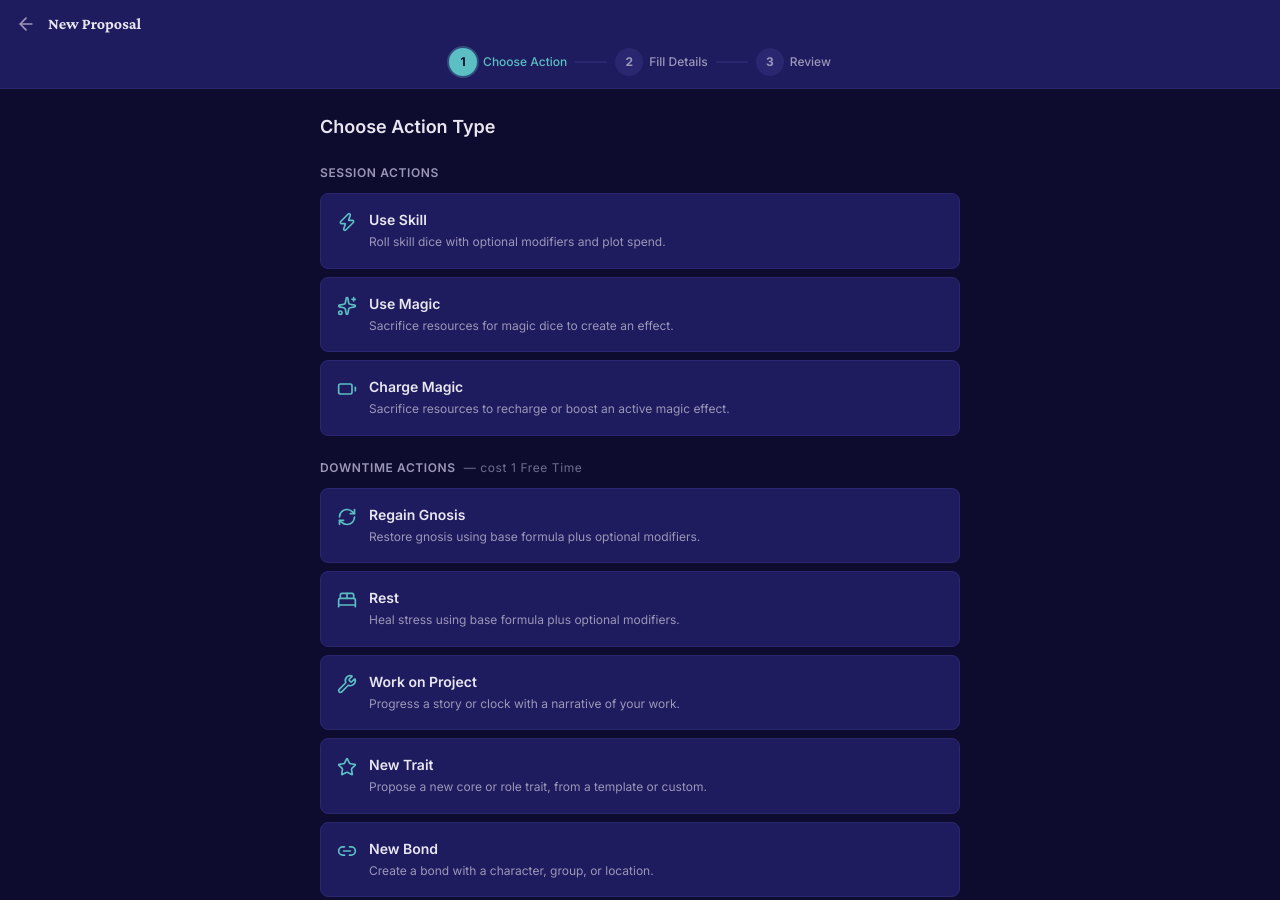
Test: proposal wizard — full use_skill flow › advances to Step 3 (Review) after filling use_skill form and clicking Next
This screenshot has width=1280, height=900.
Click the button with aria-label "Select Use Skill": click(398, 220) [320,193,960,268]
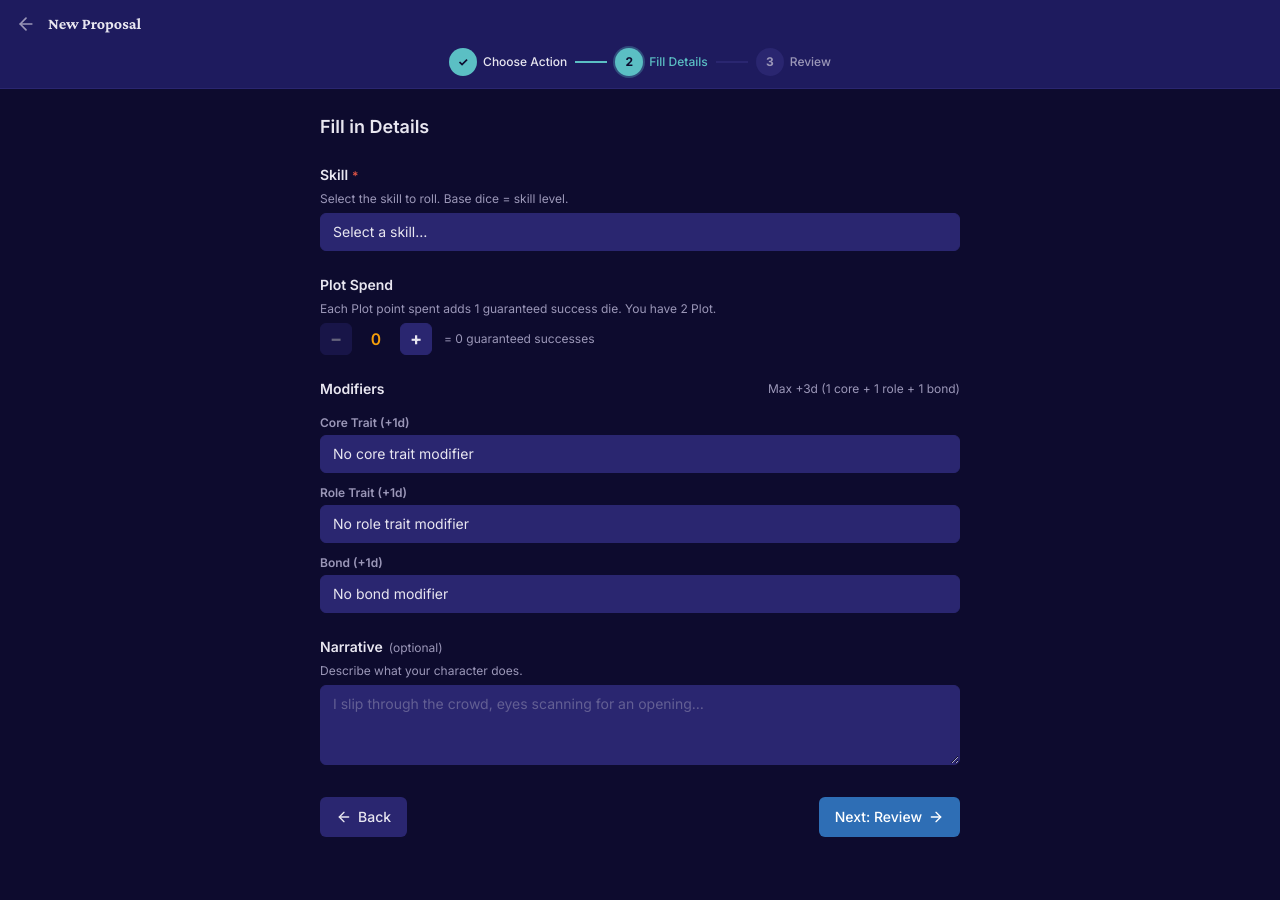
Result: the dropdown labelled "Skill*" is shown
Select "Finesse (Level 3)" in the dropdown labelled "Skill*": (640, 232) [320,213,960,251]
(page scrolled)
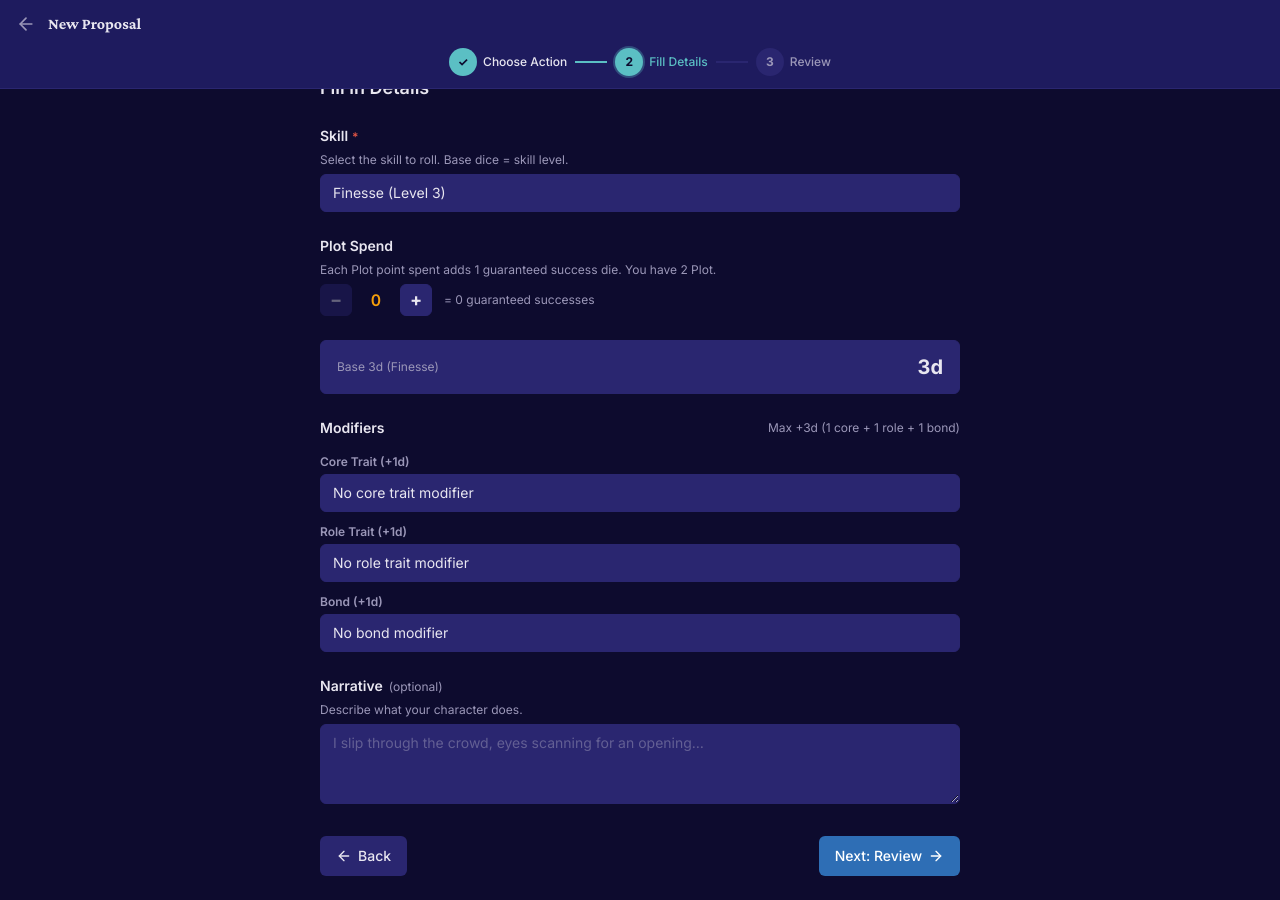
Click the button "Next: Review": click(889, 856) [819,836,960,876]
(page scrolled)
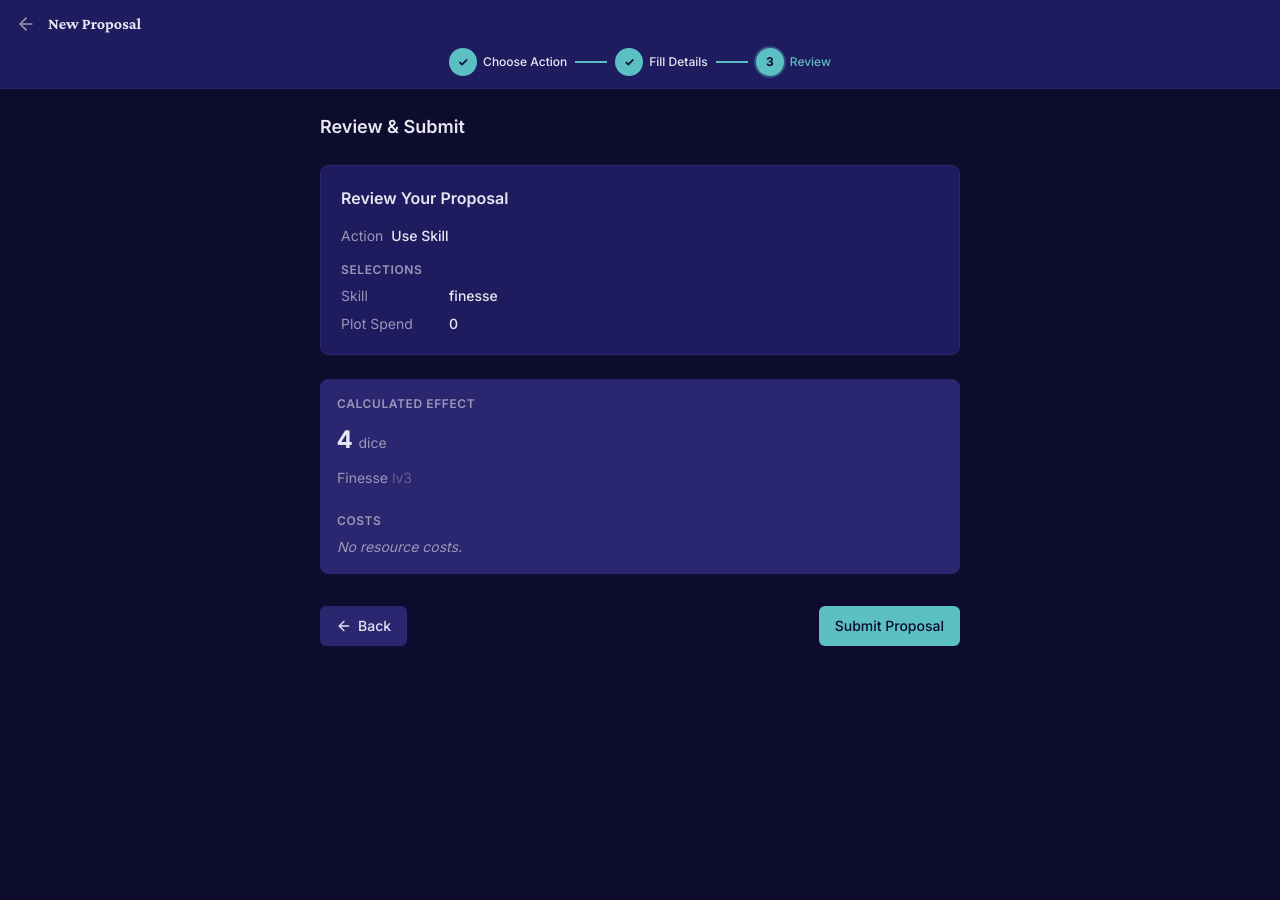
Result: the heading "Review Your Proposal" is shown at [341,188,508,208]
